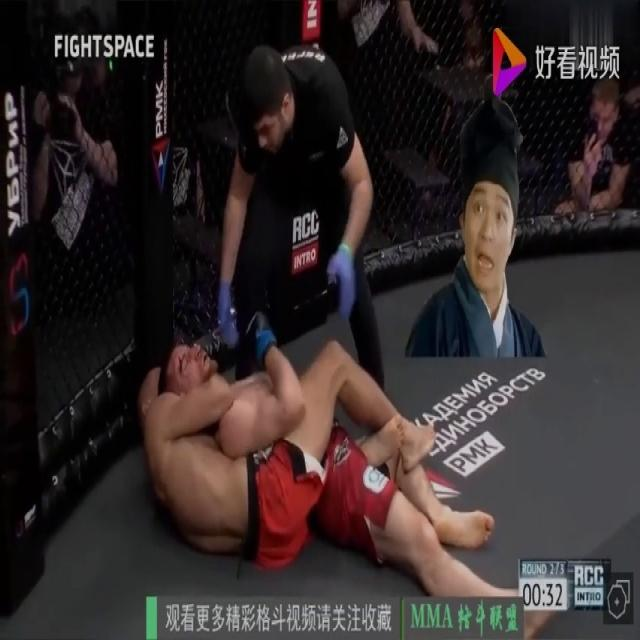fight: (132, 338, 564, 640)
non-fight: (216, 38, 391, 442)
